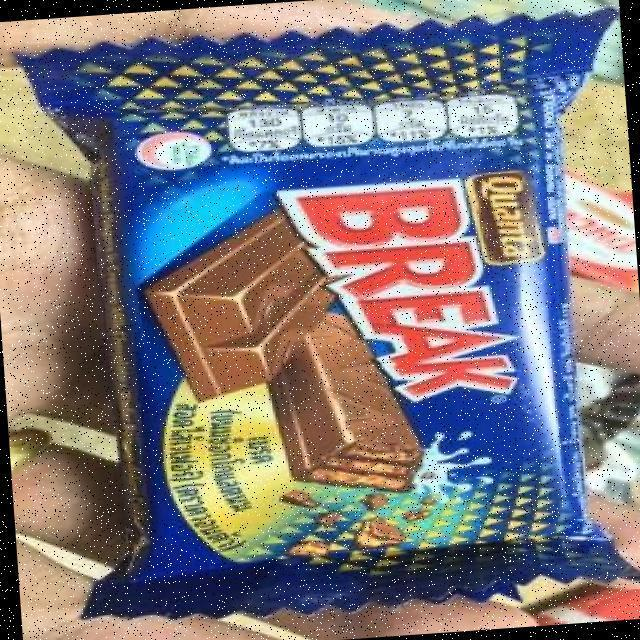Dry Waste: (8, 13, 640, 613)
